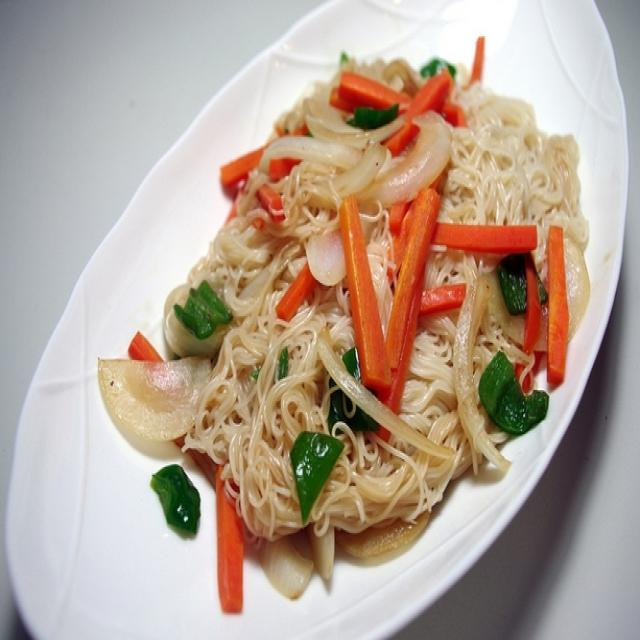面条主食: (95, 5, 590, 621)
